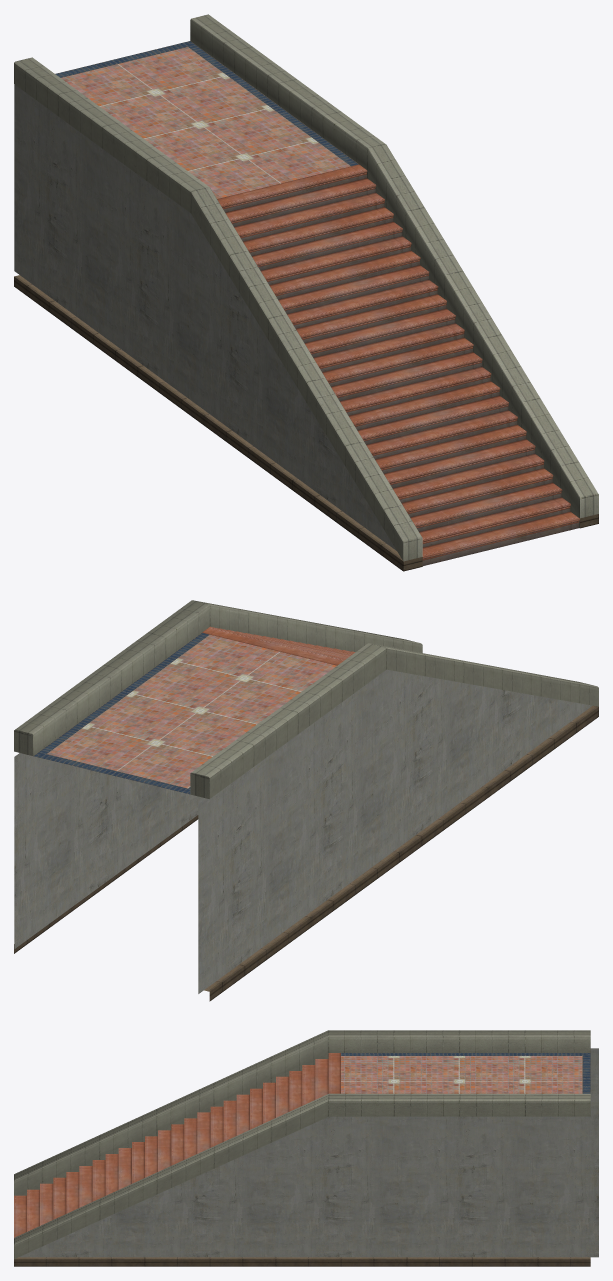
Rendered from SmallStaircase.obj.
3 views of the same model, one above another, from view 1: azimuth 30°, elevation 25°; view 2: azimuth 150°, elevation 25°; view 3: azimuth 270°, elevation 25° (orthographic). The views are drawn at different scales.
Parts seen in each view (by area): view 1: ct2_02_n1_ks2_kaidan_000; view 2: ct2_02_n1_ks2_kaidan_000; view 3: ct2_02_n1_ks2_kaidan_000.
Boxes of the visible parts, x1=… form: ct2_02_n1_ks2_kaidan_000: x1=14, y1=14, x2=598, y2=571; ct2_02_n1_ks2_kaidan_000: x1=14, y1=600, x2=598, y2=1001; ct2_02_n1_ks2_kaidan_000: x1=14, y1=1030, x2=598, y2=1266.
Bounding box in the file's own units: 5.1 × 5.6 × 17.85.
